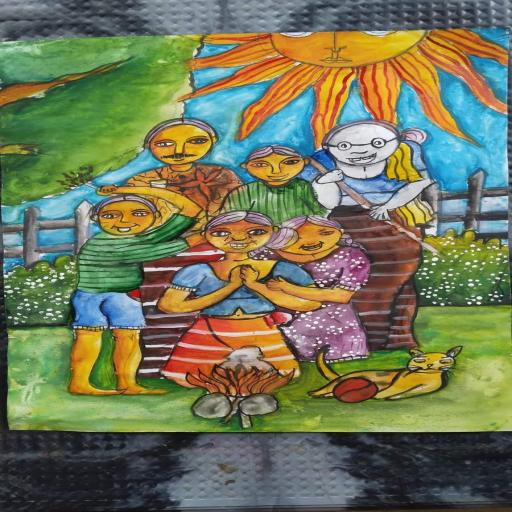person: (51, 176, 188, 407), (160, 208, 292, 406), (273, 211, 376, 358), (108, 110, 241, 202), (326, 116, 435, 218), (226, 131, 322, 207)
